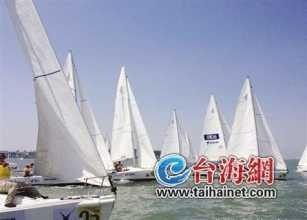fanchuan: (227, 79, 295, 181), (111, 68, 168, 184), (198, 91, 236, 174), (162, 96, 200, 175)
